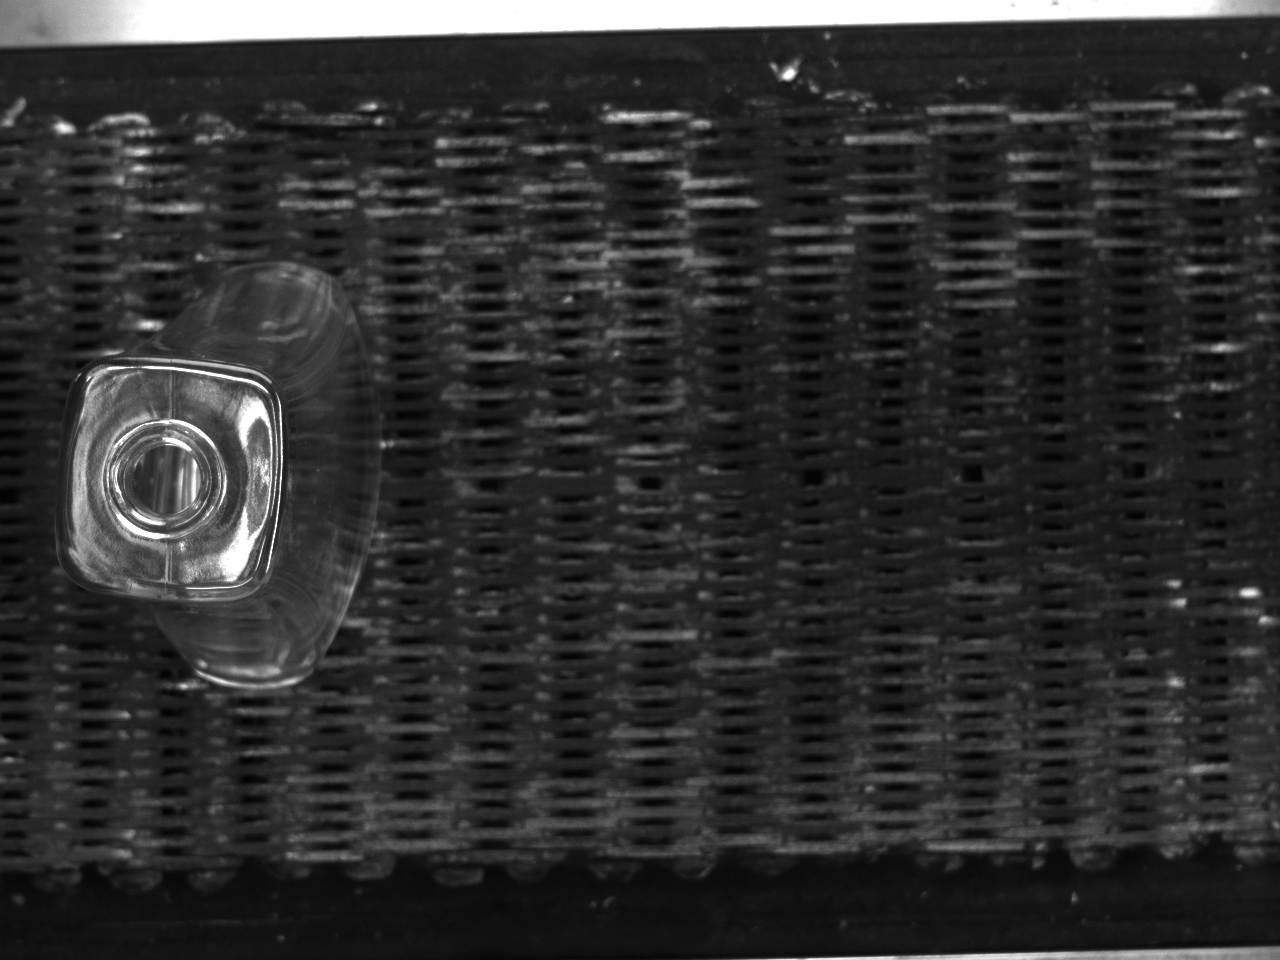bottleneck: (103, 418, 227, 536)
